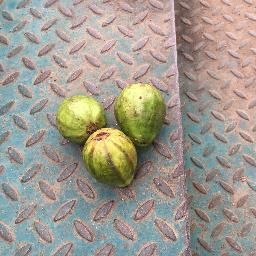Good_guava: (115, 82, 165, 144), (86, 130, 137, 189), (55, 95, 104, 144)
